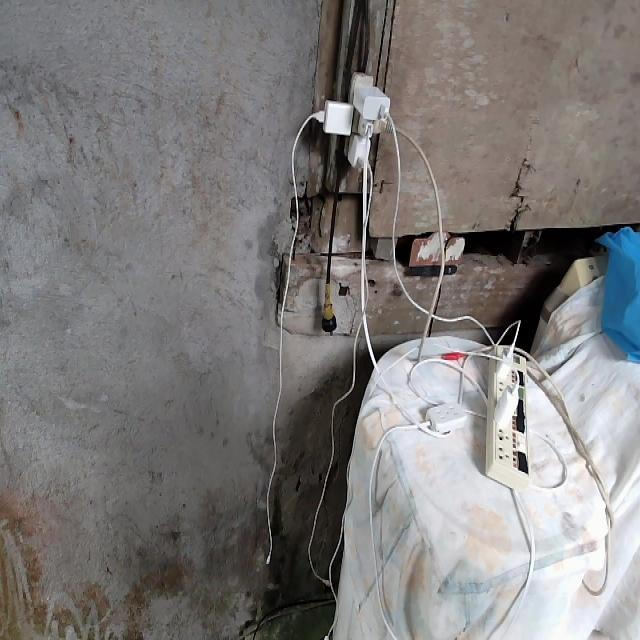-: (309, 64, 400, 177)
